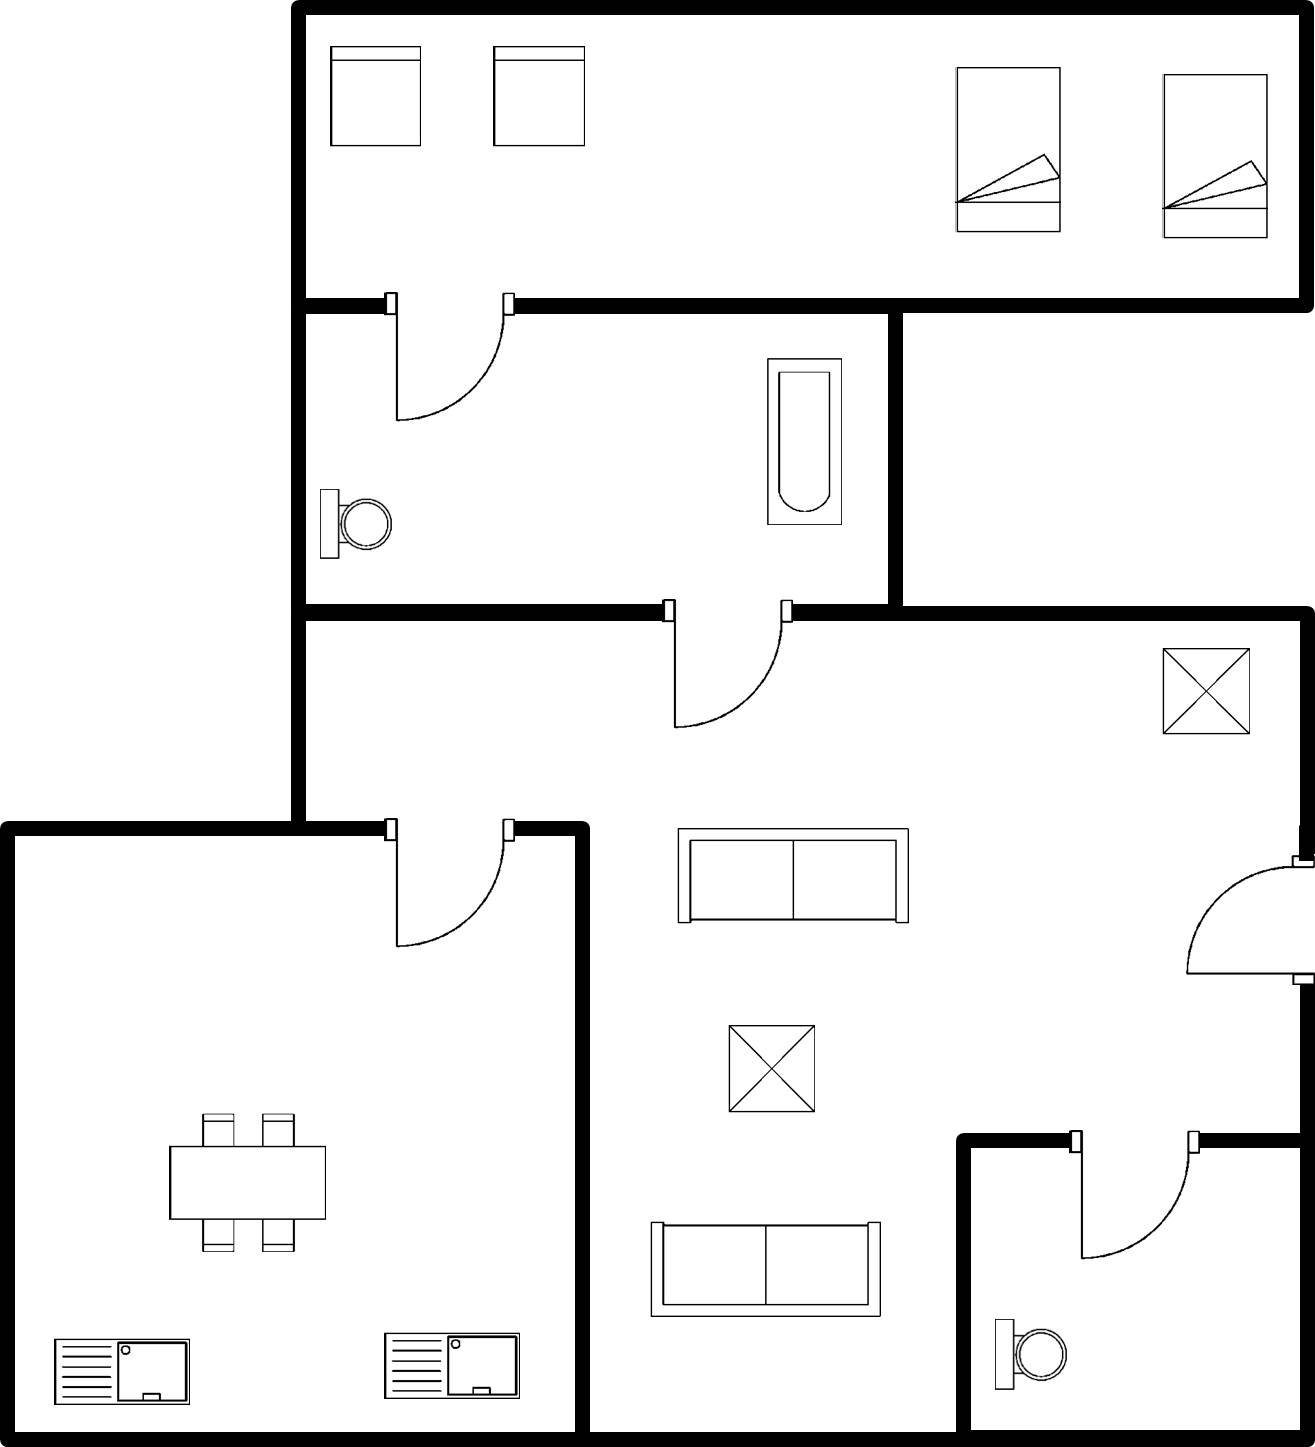bed: (947, 51, 1069, 241), (1156, 62, 1273, 248)
coffee_table: (717, 1014, 828, 1124), (1151, 638, 1262, 748)
dining_table: (162, 1102, 334, 1265)
large_sink: (989, 1310, 1073, 1403), (313, 481, 397, 569)
large_sofa: (665, 817, 918, 931), (644, 1210, 890, 1327)
sink: (42, 1330, 203, 1414), (375, 1324, 530, 1407)
small_sofa: (321, 38, 430, 155), (485, 37, 593, 154)
tub: (758, 347, 852, 535)
